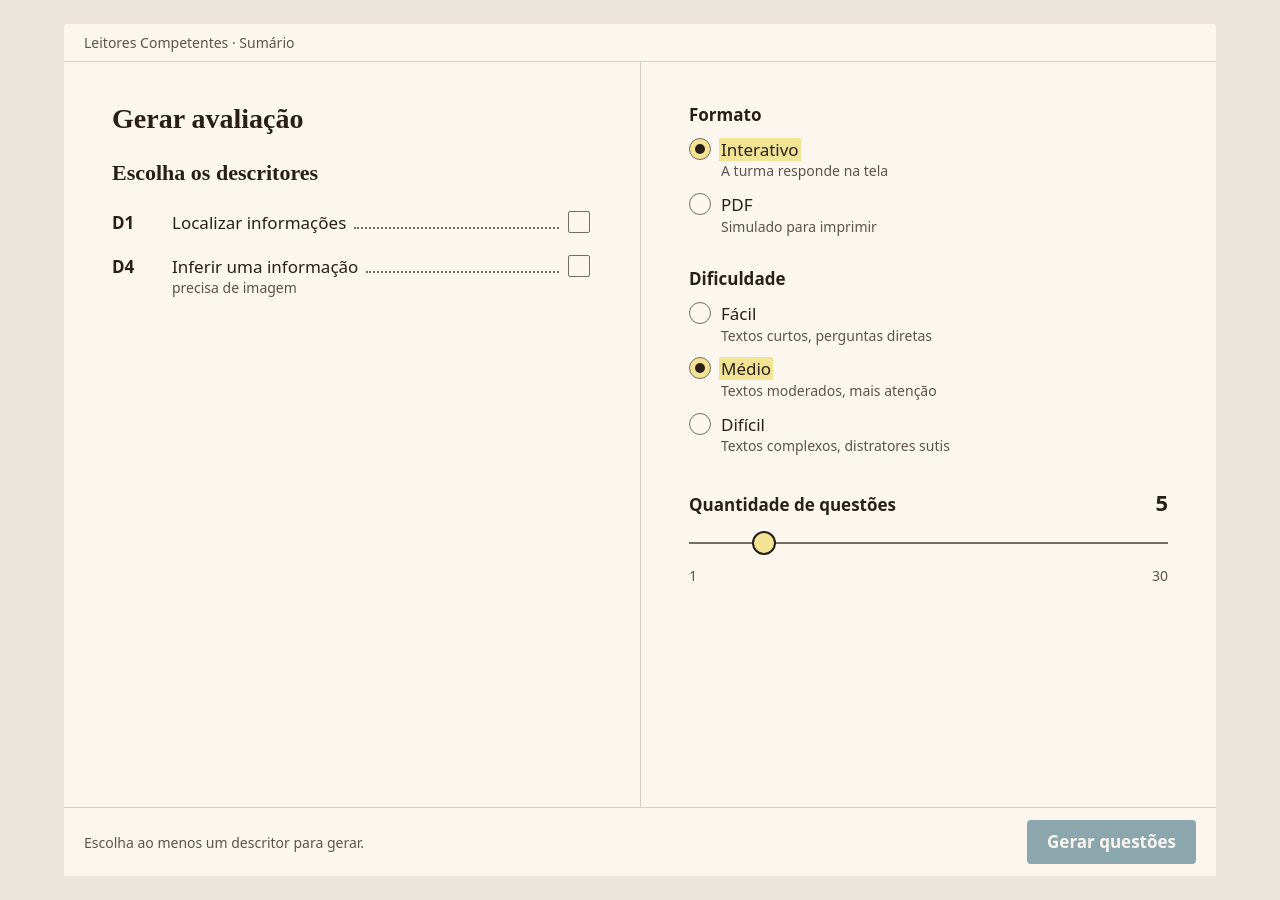
Scenario: GenerateScreen › shows the API's detail and lets the teacher dismiss it
Click the checkbox labelled "D1 Localizar informações" at (579, 222), box [568, 211, 590, 233]
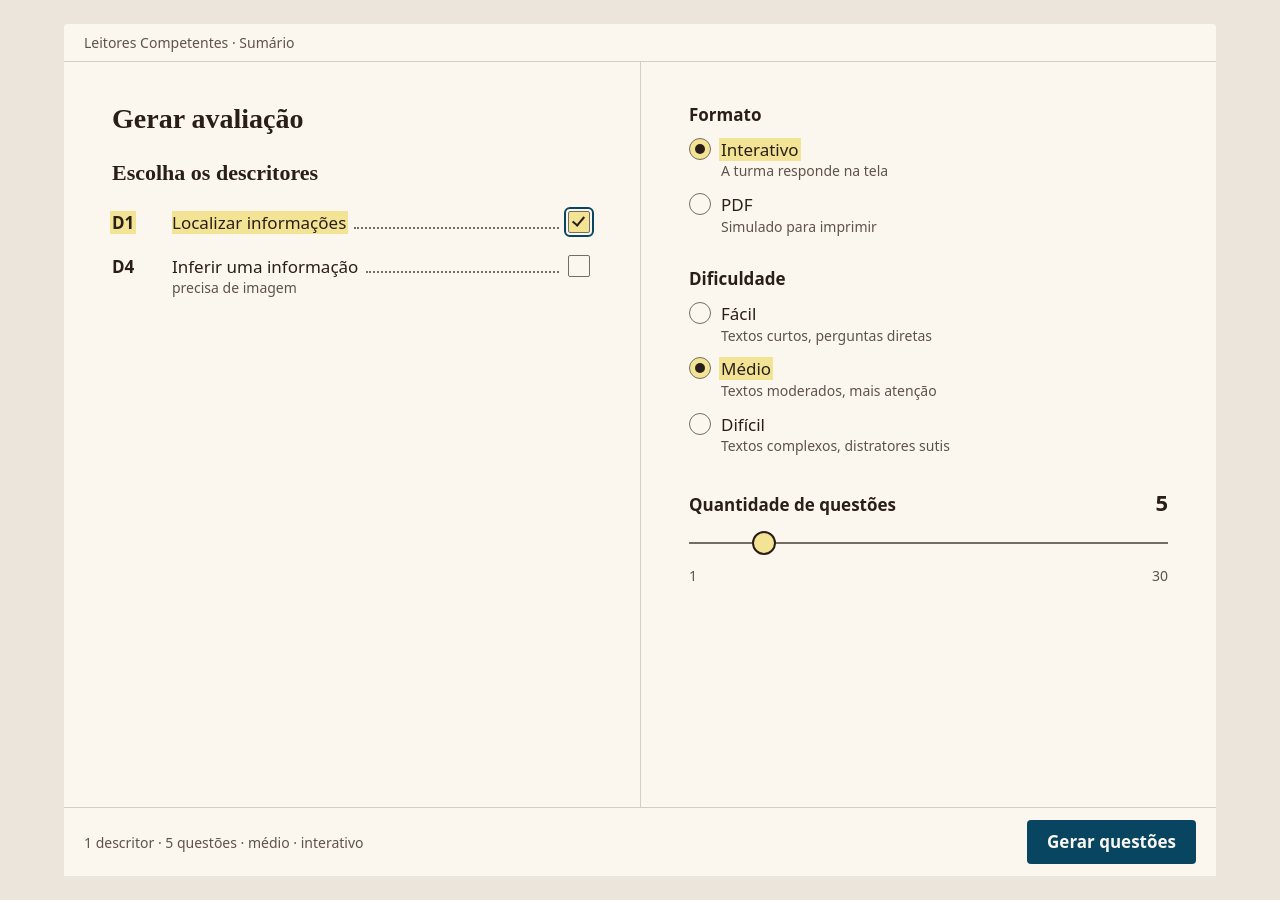
Click the button "Gerar questões" at (1112, 842), box [1027, 820, 1196, 864]
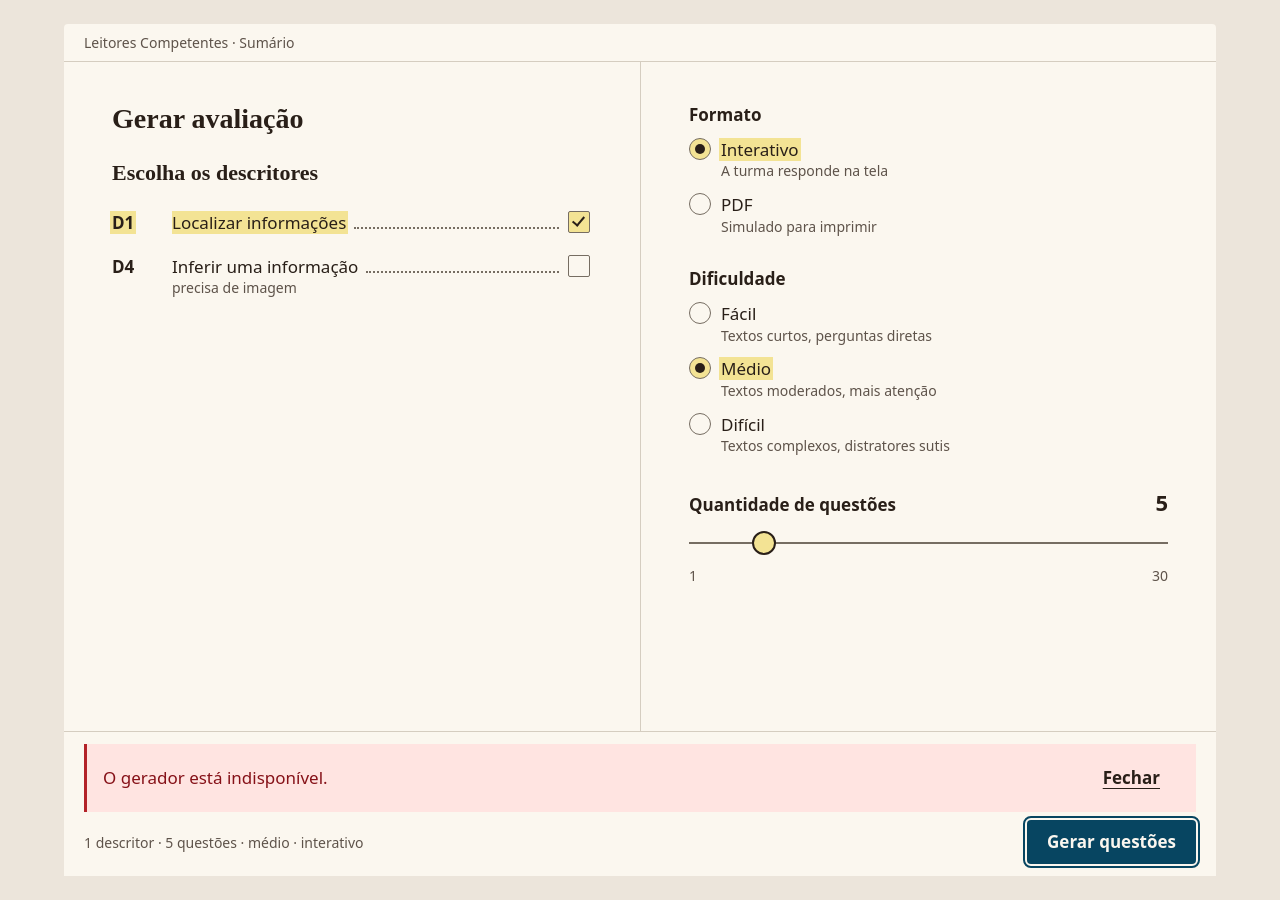
Check: the message shows "O gerador está indisponível.", box [103, 766, 328, 789]
Click the button "Fechar" at (1131, 778), box [1083, 756, 1180, 800]
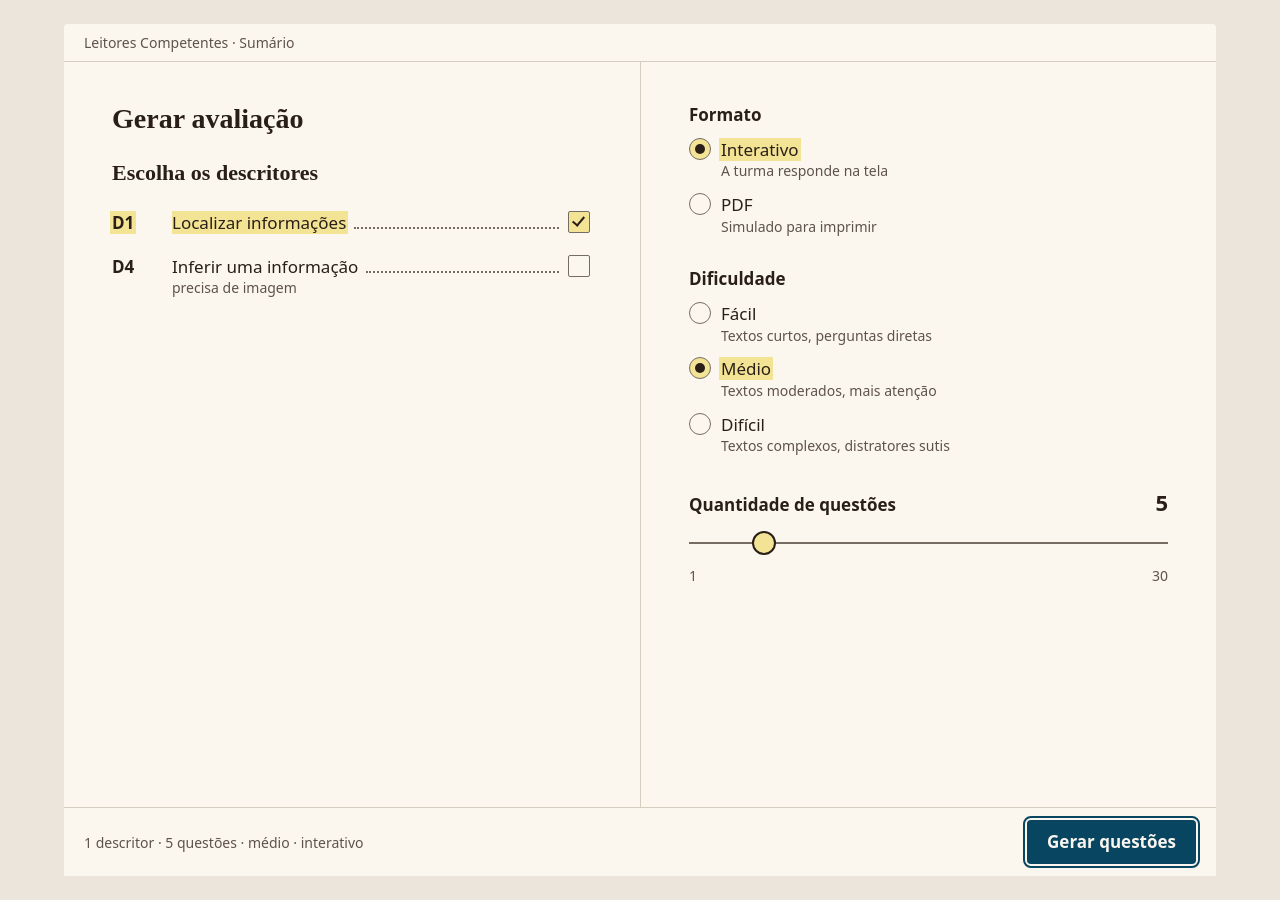
Check: the message "O gerador está indisponível. Fechar" is gone
